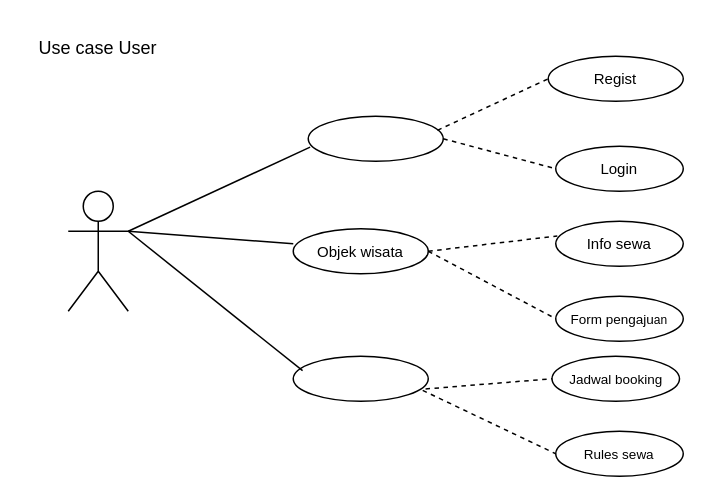
Image size: 710x503. Some labels were removed from this diagram. Each missing label, with the box of its shape:
Auth: (307, 115, 443, 161)
Jadwal: (292, 355, 428, 401)
User: (67, 190, 128, 311)
